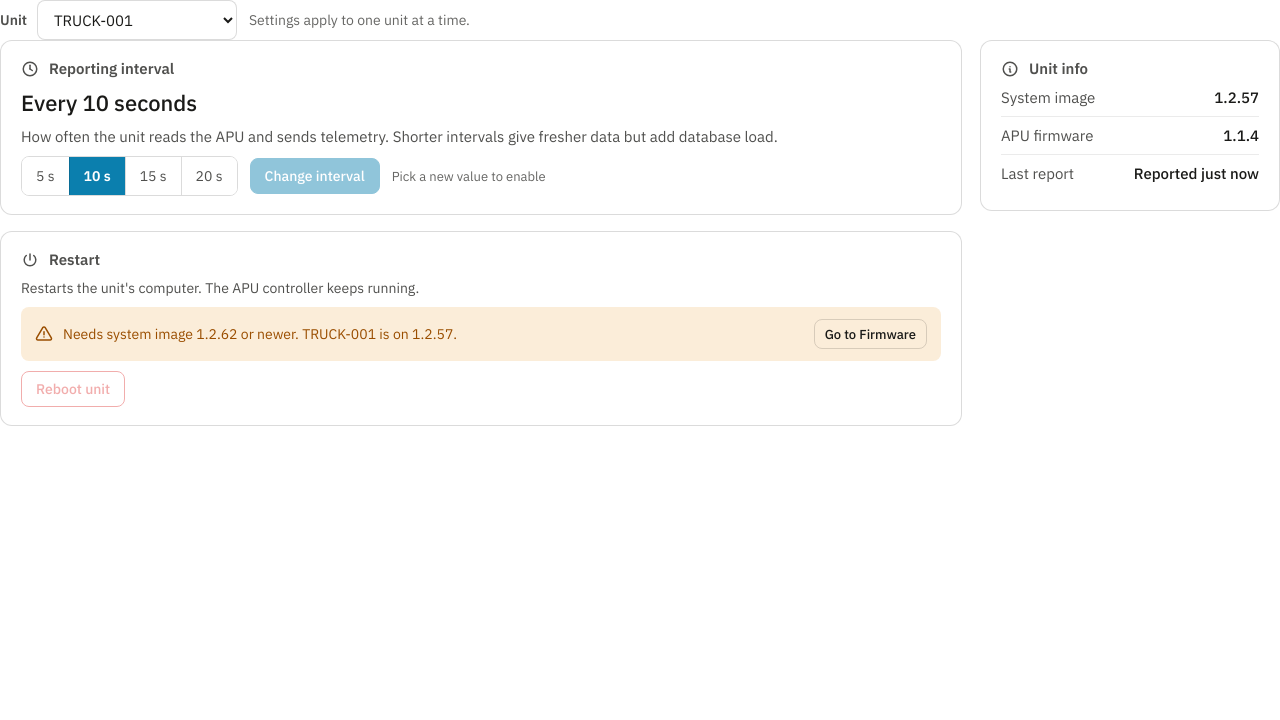
Test case: SystemConfigPage › does not re-send the same interval while it is still pending
This screenshot has width=1280, height=720.
Click the radio button labelled "15 s" at (153, 176), box [125,157,180,195]
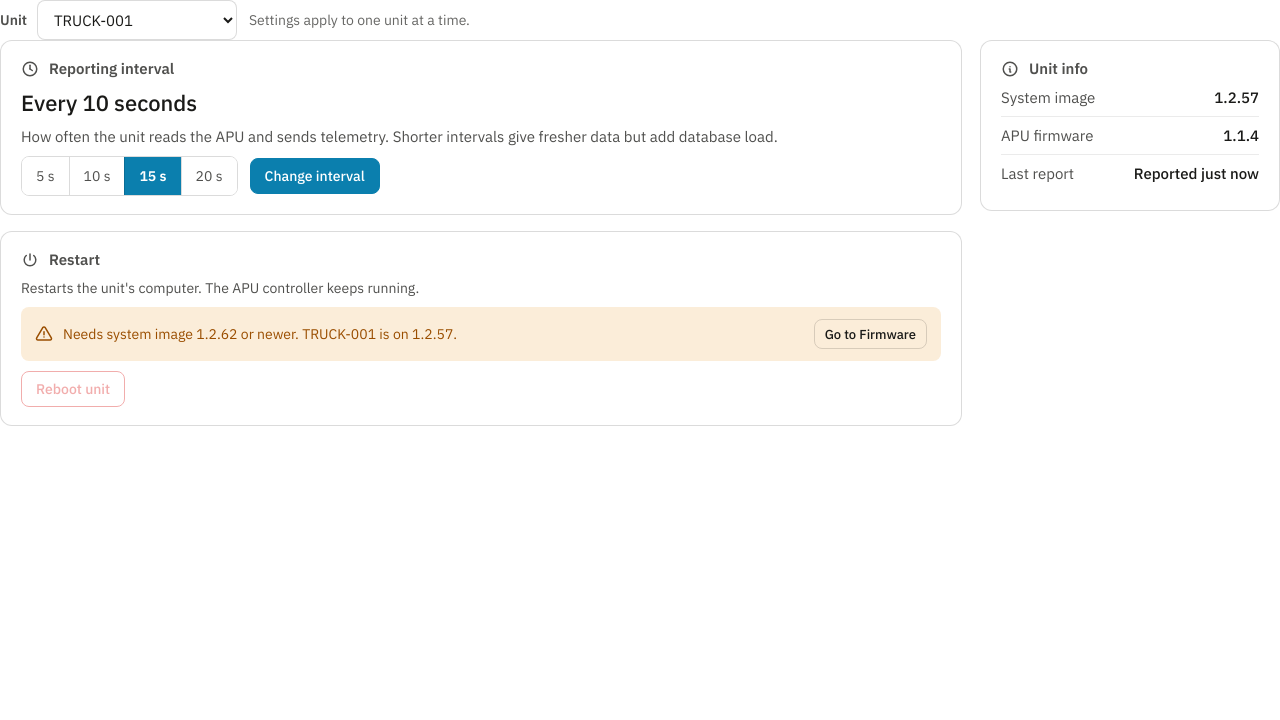
Click the button "Change interval" at (315, 176), box [250,158,380,194]
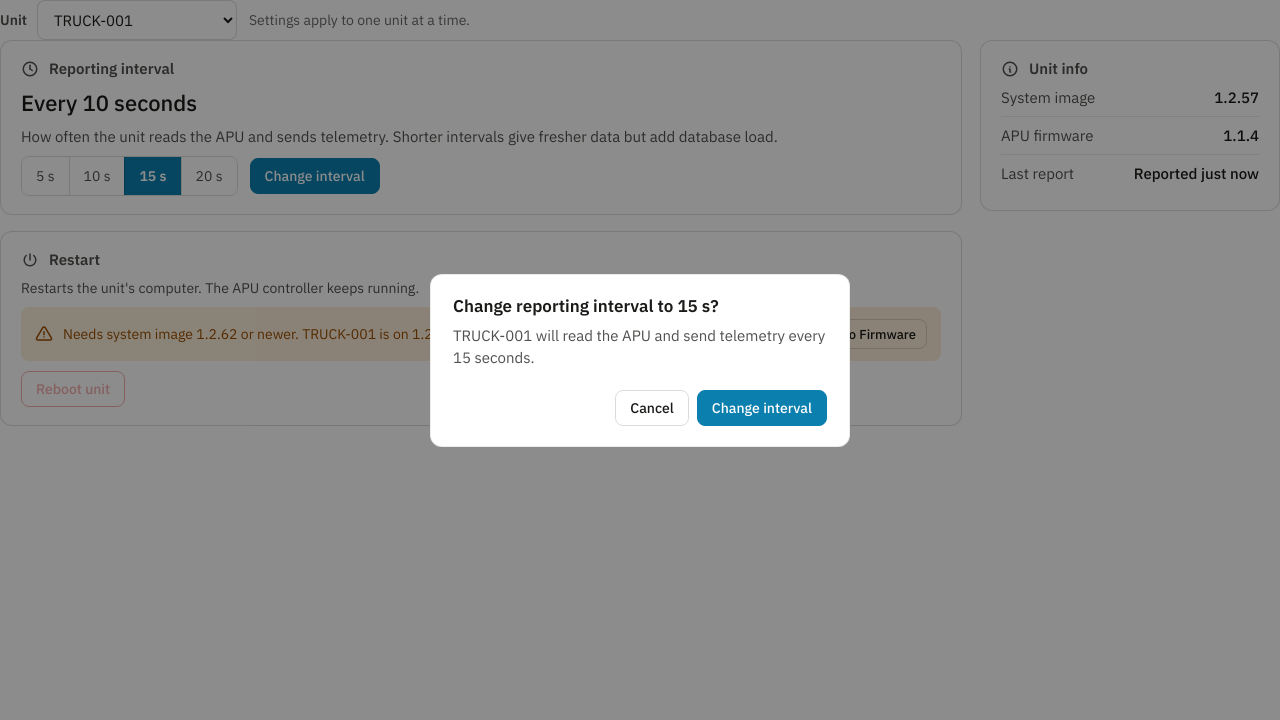
Click the button "Change interval" at (762, 408), box [697,390,827,426]
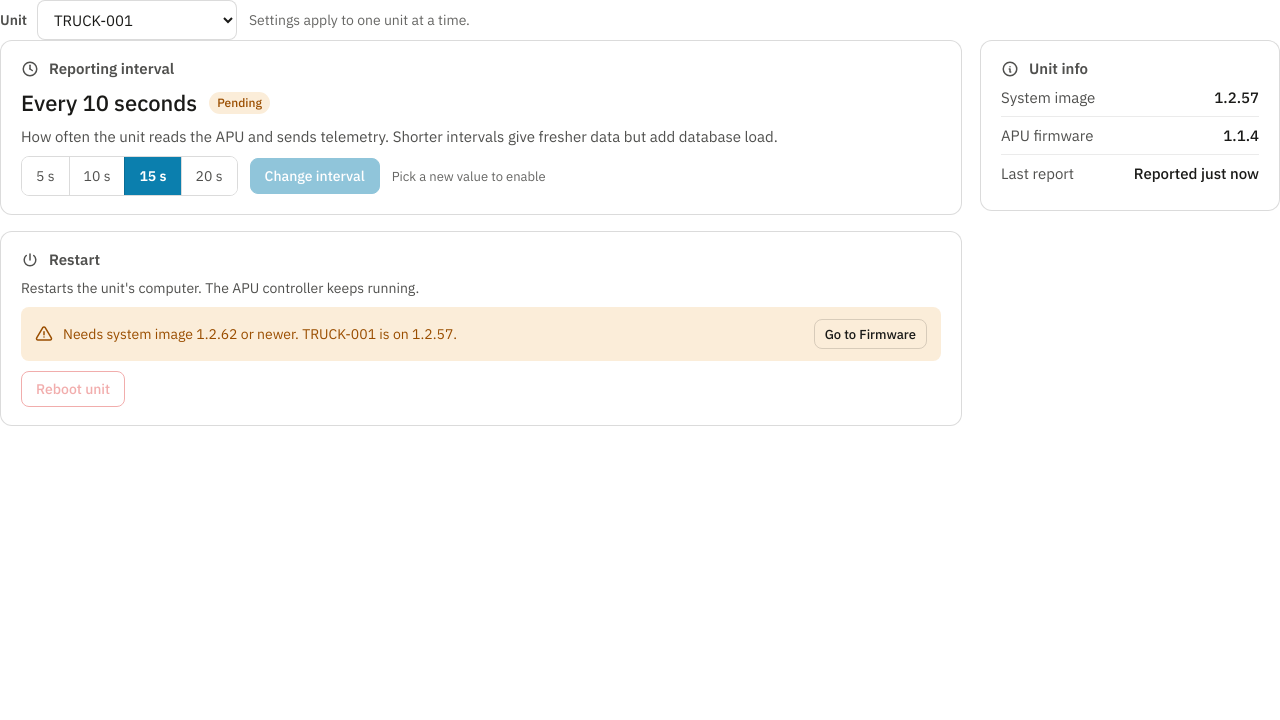
Check: the button "Change interval" is disabled, box [250,158,380,194]
Click the radio button labelled "20 s" at (209, 176), box [181,157,236,195]
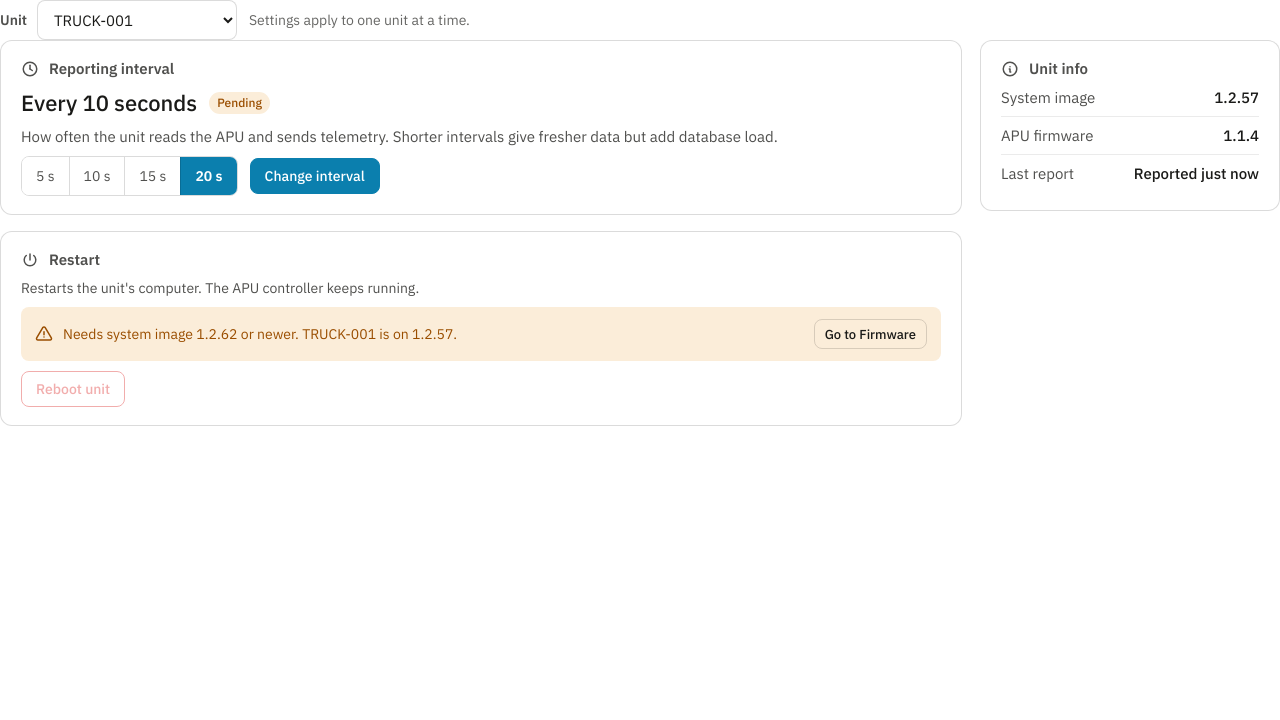
Check: the button "Change interval" is enabled, box [250,158,380,194]
